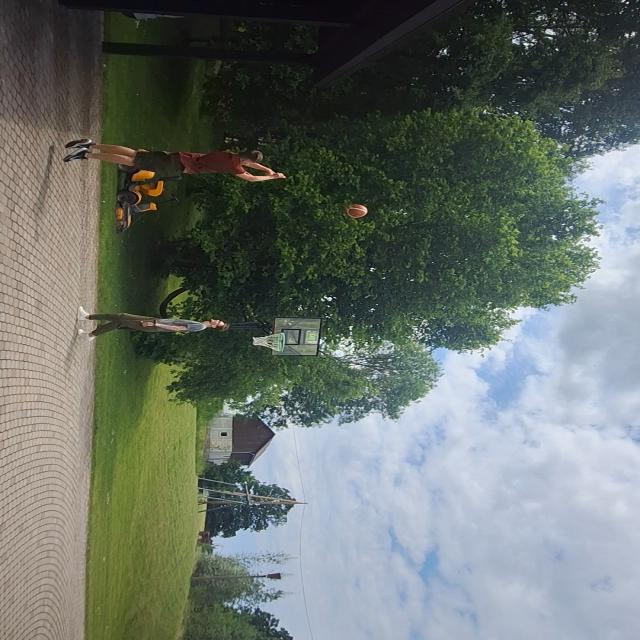ball: (345, 202, 370, 220)
hoop: (253, 331, 292, 355)
player: (58, 134, 290, 185), (72, 302, 231, 343)
